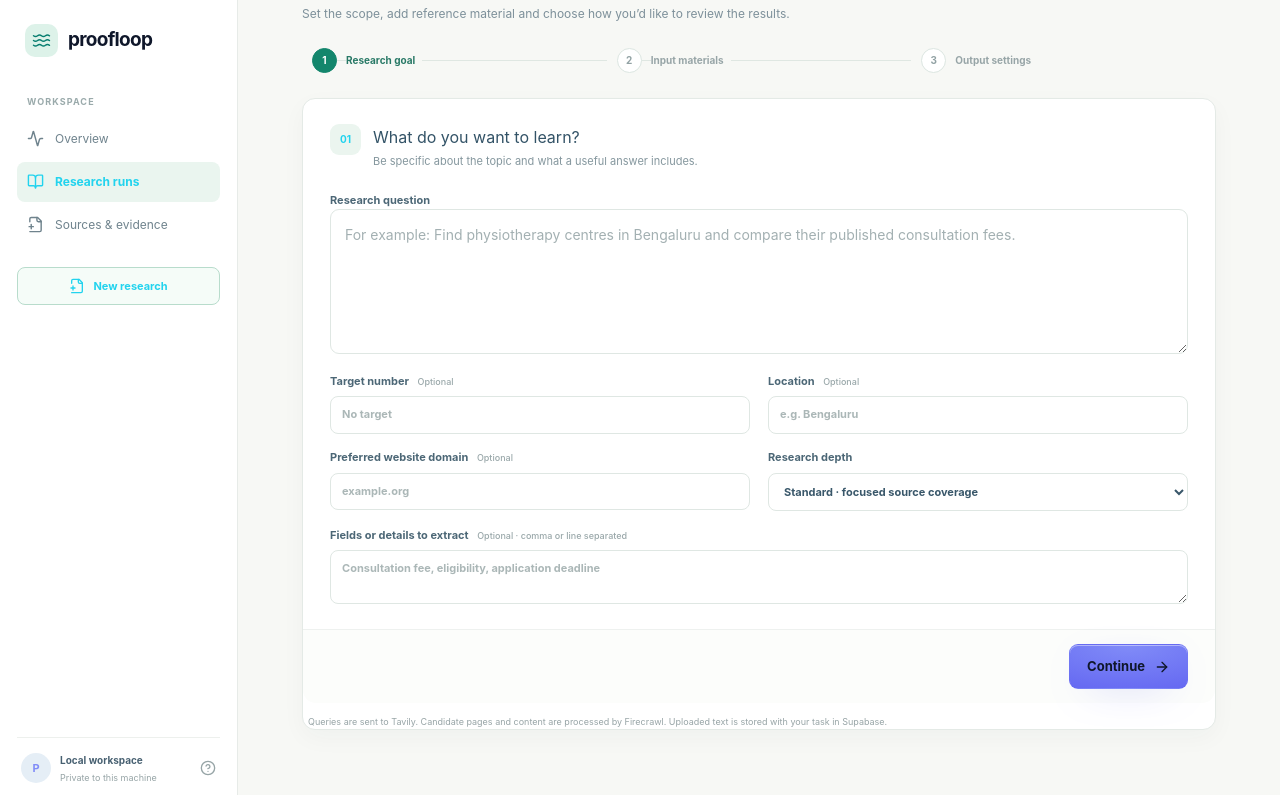
Test: ProofLoop research journey › validates a research question before leaving the first setup step
(page scrolled)
Click the button "Continue": click(1129, 667) top-left (1069, 644), bottom-right (1188, 689)
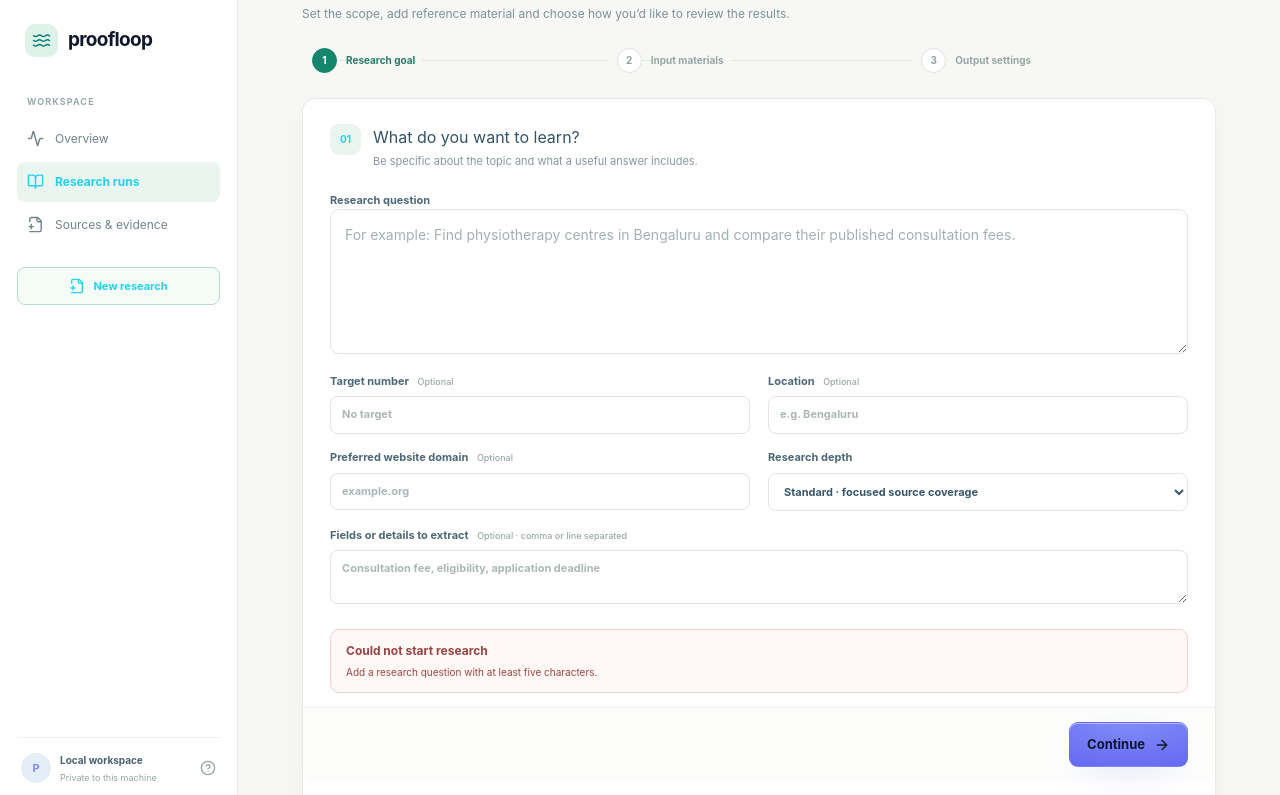
Expected: the text box labelled "Research question" is shown, top-left (330, 209), bottom-right (1188, 354)
Expected: the message shows "Add a research question", top-left (346, 666), bottom-right (597, 678)
